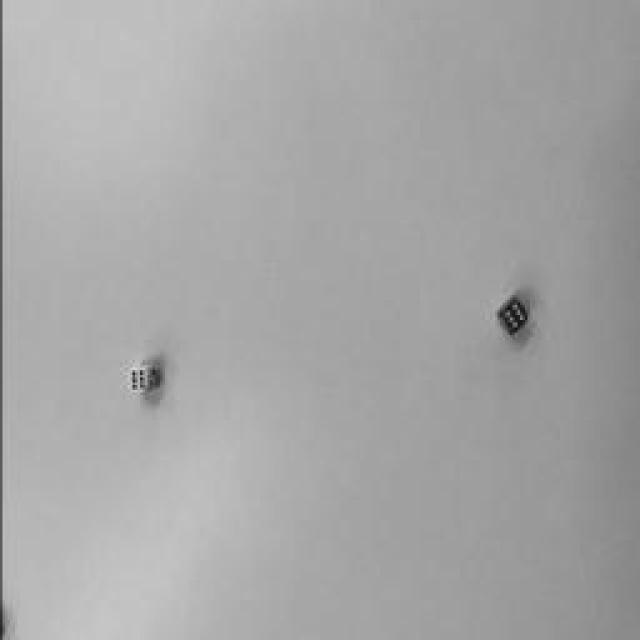dice_6: (502, 300, 526, 332), (128, 368, 148, 392)
